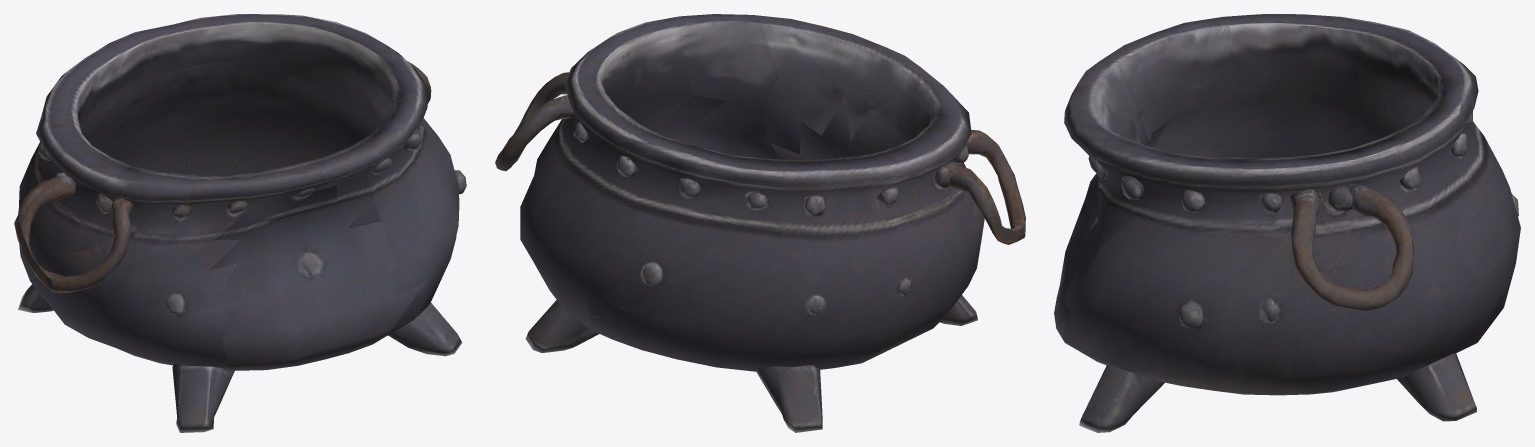
Rendered from caldera_abollada.glb.
The picture shows the model from 3 angles, left to right: view 1: azimuth 30°, elevation 25°; view 2: azimuth 150°, elevation 25°; view 3: azimuth 270°, elevation 25°; orthographic projection. The views are drawn at different scales.
Visible parts, largest first — view 1: caldera; view 2: caldera; view 3: caldera.
Boxes of the visible parts, bbox=[...] form: caldera: bbox=[14, 14, 466, 432]; caldera: bbox=[495, 14, 1025, 432]; caldera: bbox=[1054, 14, 1520, 432].
Size of the model in its own units: 1.2 by 0.6748 by 0.9754.
Materials: 1 (1 with a texture image).
